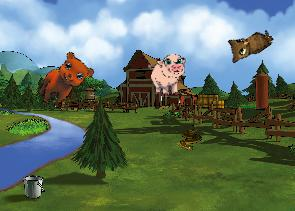bear: (34, 47, 97, 117)
owl: (221, 18, 275, 67)
pig: (148, 54, 188, 97)
